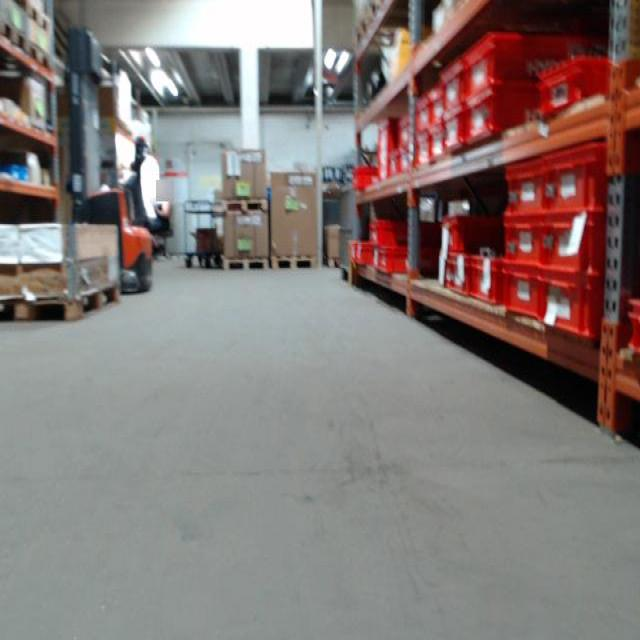pallet: (0, 282, 120, 325), (0, 18, 28, 53), (222, 197, 268, 215), (28, 39, 52, 72), (28, 4, 54, 34), (220, 258, 270, 272), (270, 255, 316, 270)
pallet_truck: (57, 21, 162, 289)
small_load_carrier: (538, 211, 616, 342), (464, 28, 598, 101), (536, 53, 622, 111), (466, 88, 538, 156), (541, 138, 611, 205), (436, 200, 498, 252), (496, 263, 552, 320), (501, 211, 556, 268), (500, 157, 556, 211), (361, 213, 427, 251), (368, 245, 432, 280), (472, 254, 508, 308), (441, 53, 469, 117), (442, 251, 478, 300), (447, 108, 472, 159), (430, 81, 454, 129), (626, 288, 639, 360), (415, 88, 434, 132), (346, 238, 378, 263), (431, 123, 450, 162), (418, 139, 432, 169)
stillage: (334, 181, 364, 285)
